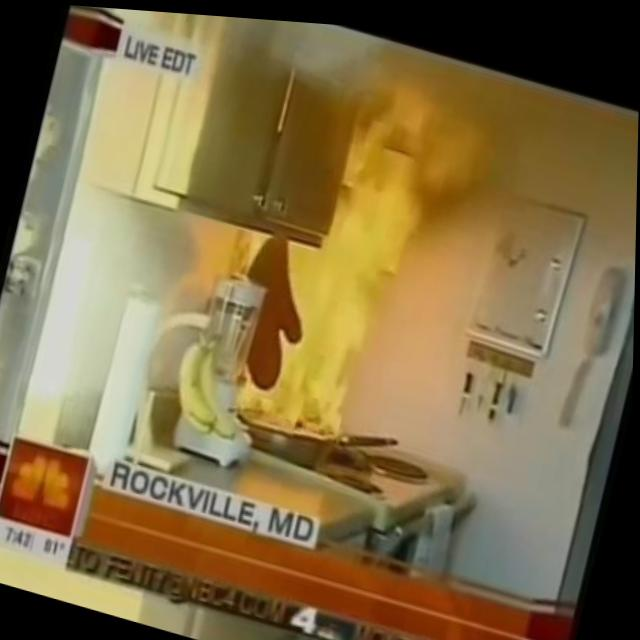fire: (211, 44, 489, 467)
